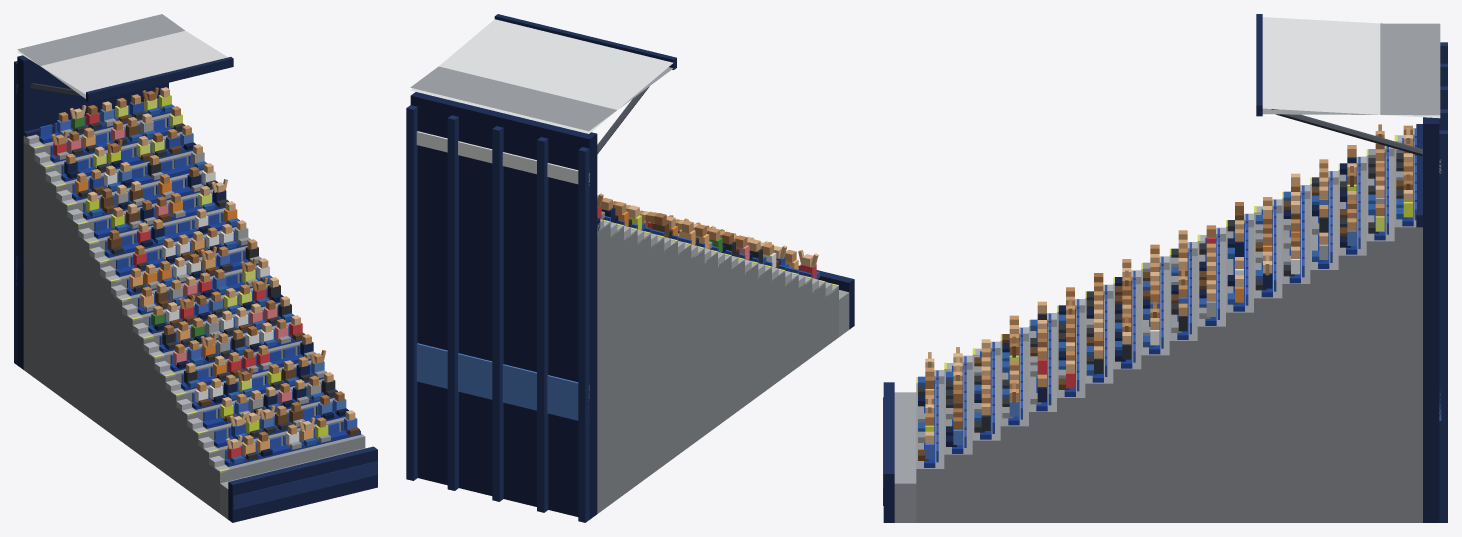
The model's file is Stand_w20_1.glb.
3 renders of one model, left to right at view 1: azimuth 30°, elevation 25°; view 2: azimuth 150°, elevation 25°; view 3: azimuth 270°, elevation 25°, orthographic. The views are drawn at different scales.
Visible parts, largest first — view 1: Stand_w20_1; view 2: Stand_w20_1; view 3: Stand_w20_1.
Part boxes in pixels (<box>): Stand_w20_1: <box>14,14,377,522</box>; Stand_w20_1: <box>406,14,854,522</box>; Stand_w20_1: <box>883,14,1447,522</box>.
Size of the model in its own units: 20 by 42.55 by 52.16.
Materials: 2 (1 with a texture image).
